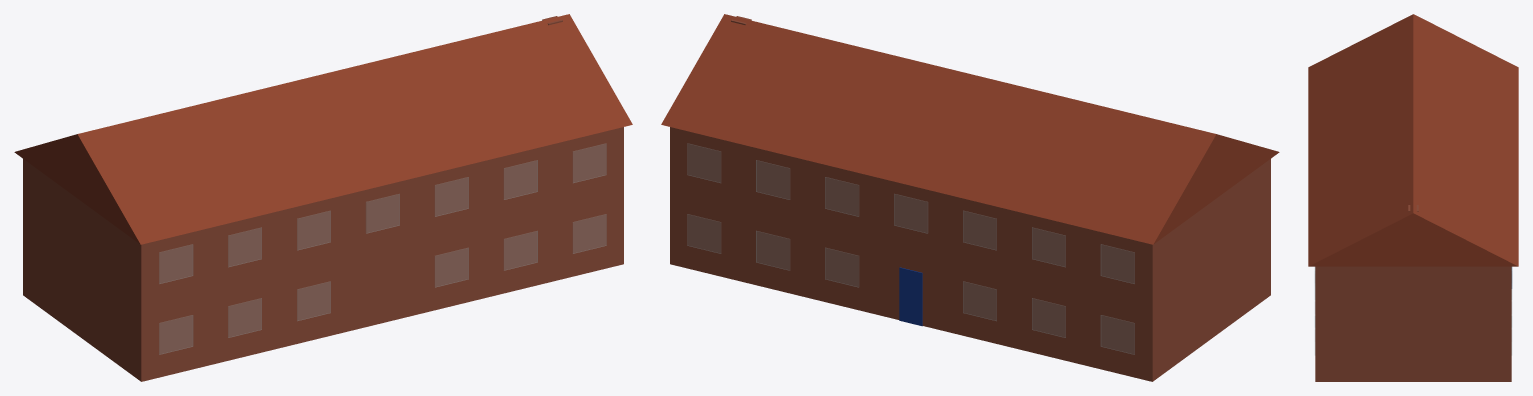
Rendered from context.house_terrace_4.glb.
3 views of the same model, side by side, from view 1: azimuth 30°, elevation 25°; view 2: azimuth 150°, elevation 25°; view 3: azimuth 270°, elevation 25° (orthographic). The views are drawn at different scales.
Visible parts, largest first — view 1: walls__brick, roof__clay_tile, openings__glass; view 2: walls__brick, roof__clay_tile, openings__glass, openings__plastic_blue; view 3: roof__clay_tile, walls__brick.
Boxes of the visible parts, box(x1,y1,x2,y2) form: walls__brick: box(23, 127, 623, 381); roof__clay_tile: box(14, 14, 632, 244); openings__glass: box(159, 143, 606, 354); walls__brick: box(670, 127, 1270, 381); roof__clay_tile: box(661, 14, 1279, 244); openings__glass: box(687, 143, 1134, 354); openings__plastic_blue: box(899, 267, 922, 326); roof__clay_tile: box(1308, 14, 1518, 266); walls__brick: box(1315, 266, 1511, 381).
Bounding box in the file's own units: 20.4 × 8.15 × 9.1.
